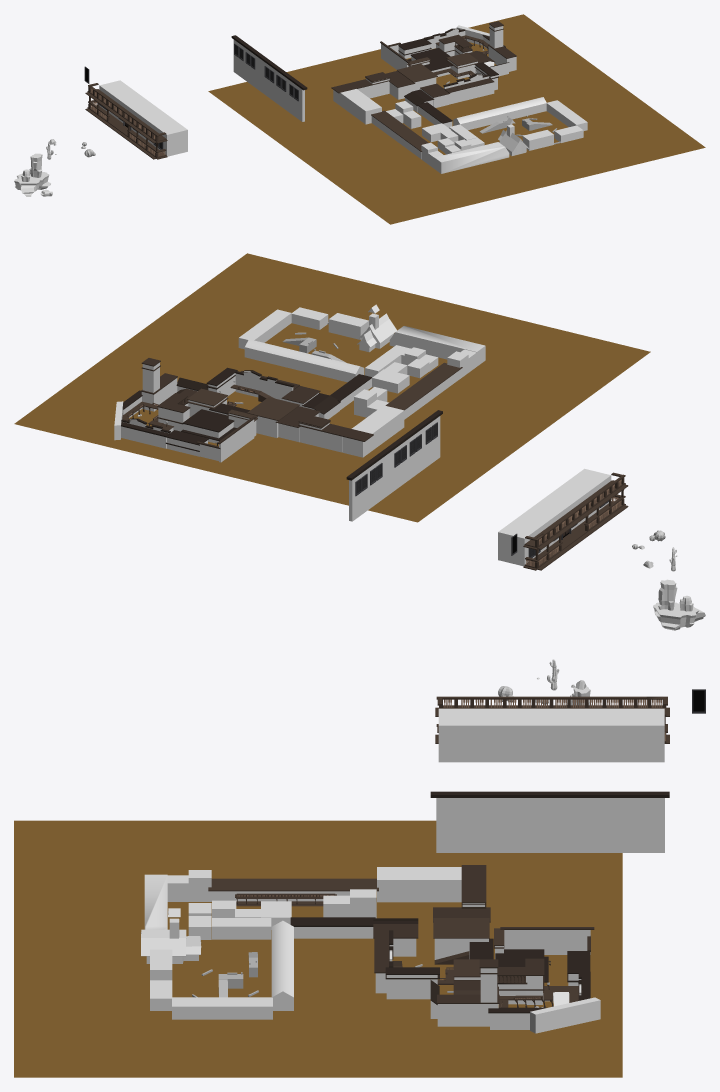
The model's file is nivel1_01.fbx_Collection.fbx.
3 views of the same model, one above another, from view 1: azimuth 30°, elevation 25°; view 2: azimuth 150°, elevation 25°; view 3: azimuth 270°, elevation 25° (orthographic). The views are drawn at different scales.
Visible parts, largest first — view 1: Plane, Cube.001, Cube.003, Casa__1__7, Casa__5__2, Casa__4__2, Cylinder.002, Cube.012, Plataforma__3_.007, Casa_2, Casa__4__5, Cube.036 (+9 smaller); view 2: Plane, Cube.001, Cube.003, Casa__1__7, Casa__5__2, Casa__4__2, Cylinder.002, Plataforma__3_.007, Cube.012, Casa__4__5, Casa_2, Cube.036 (+7 smaller); view 3: Plane, Cube.003, Cube.001, Casa__4__2, Casa__4__5, Plataforma__3_.007, Casa__1__7, Casa_2, Casa, Cube.006, Casa__2__1, Casa__5__2 (+19 smaller).
Part boxes in pixels (<box>): Plane: <box>208,14,705,224</box>; Cube.001: <box>99,80,187,156</box>; Cube.003: <box>233,39,304,121</box>; Casa__1__7: <box>453,97,546,130</box>; Casa__5__2: <box>434,142,509,173</box>; Casa__4__2: <box>333,89,381,124</box>; Cylinder.002: <box>14,153,52,196</box>; Cube.012: <box>85,105,167,159</box>; Plataforma__3_.007: <box>371,110,428,151</box>; Casa_2: <box>488,25,516,71</box>; Casa__4__5: <box>546,100,587,130</box>; Cube.036: <box>85,89,167,143</box>; Plane: <box>14,253,650,522</box>; Cube.001: <box>498,468,611,566</box>; Cube.003: <box>349,416,440,521</box>; Casa__1__7: <box>244,339,364,382</box>; Casa__5__2: <box>389,326,485,366</box>; Casa__4__2: <box>342,405,404,457</box>; Cylinder.002: <box>653,579,705,630</box>; Plataforma__3_.007: <box>385,362,462,410</box>; Cube.012: <box>523,501,628,570</box>; Casa__4__5: <box>238,309,291,349</box>; Casa_2: <box>141,362,177,411</box>; Cube.036: <box>523,480,628,549</box>; Plane: <box>14,820,622,1077</box>; Cube.003: <box>436,798,664,852</box>; Cube.001: <box>438,708,664,762</box>; Casa__4__2: <box>377,867,461,902</box>; Casa__4__5: <box>172,997,272,1019</box>; Plataforma__3_.007: <box>208,878,378,891</box>; Casa__1__7: <box>271,920,293,1010</box>; Casa_2: <box>437,968,498,1026</box>; Casa: <box>504,930,590,954</box>; Cube.006: <box>430,791,669,797</box>; Casa__2__1: <box>530,997,600,1033</box>; Casa__5__2: <box>144,874,167,929</box>.
Size of the model in its own units: 61097 by 8703 by 42035.
